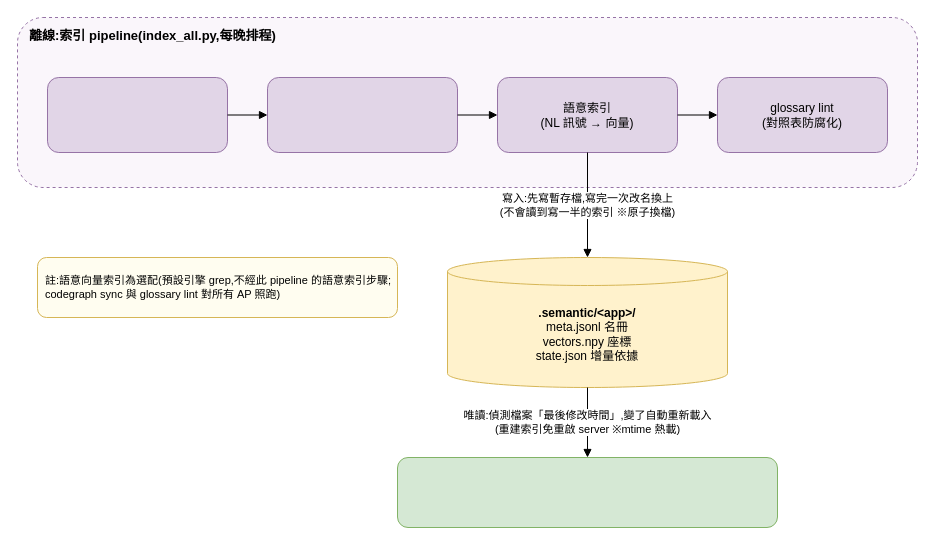
The diagram is 935 pixels wide and 545 high, and some of its shapes have lost their labels. The shapes that lost their labels are listed below. From the top down, each one's box as (x1, y1, x2, y2) in pixels, then its label:
(46, 76, 228, 152): git pull (拉最新 code)
(266, 76, 458, 152): codegraph sync (symbol 目錄 + 呼叫圖)
(396, 456, 778, 528): 線上查詢 :問題轉向量 → 內積比距離 → 字面加分 → top-k
